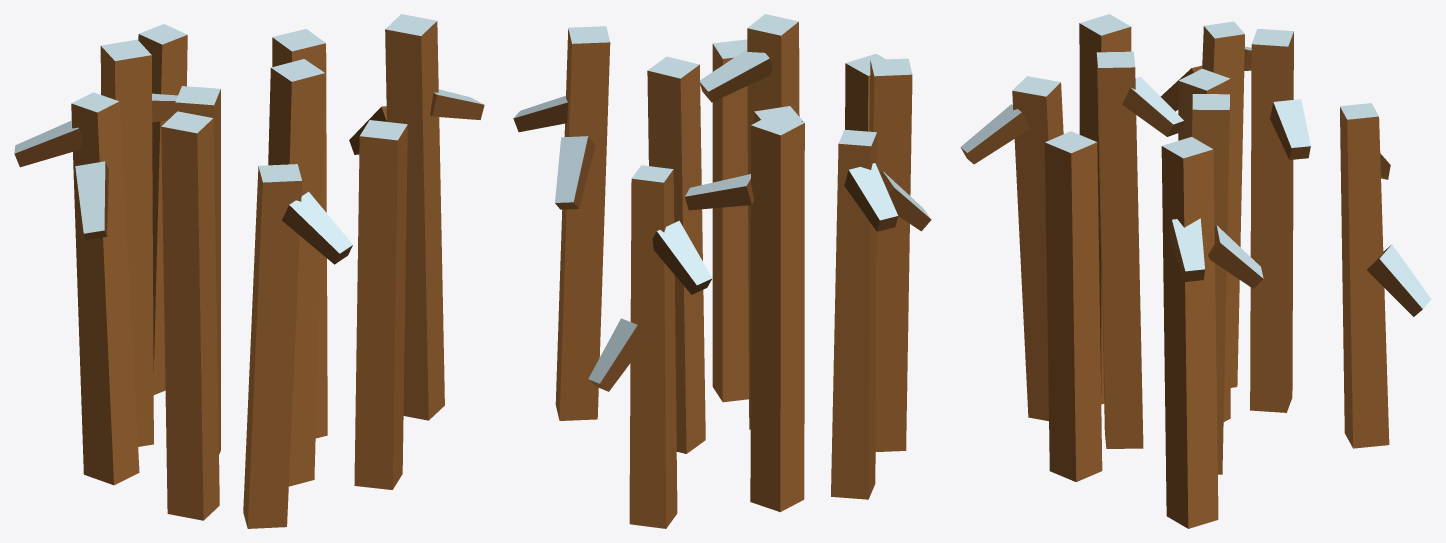
File: SM_Env_Samurai_Bamboo_01_Snow.fbx
3 views of the same model, side by side, from view 1: azimuth 30°, elevation 25°; view 2: azimuth 150°, elevation 25°; view 3: azimuth 270°, elevation 25° (orthographic). The views are drawn at different scales.
Visible parts, largest first — view 1: SM_Env_Samurai_Bamboo_01_Snow; view 2: SM_Env_Samurai_Bamboo_01_Snow; view 3: SM_Env_Samurai_Bamboo_01_Snow.
Part boxes in pixels (<box>): SM_Env_Samurai_Bamboo_01_Snow: <box>14,14,484,528</box>; SM_Env_Samurai_Bamboo_01_Snow: <box>513,14,931,528</box>; SM_Env_Samurai_Bamboo_01_Snow: <box>960,14,1431,528</box>.
Size of the model in its own units: 37.98 by 34.5 by 38.35.
Materials: 1 (1 with a texture image).
